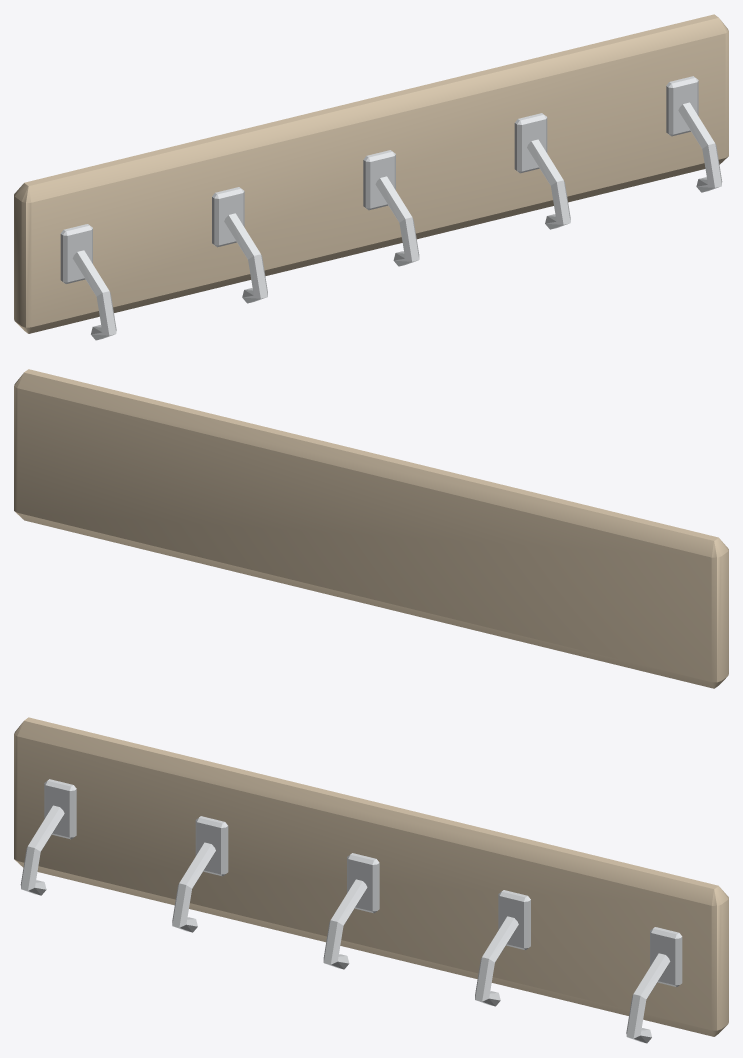
The model's file is clinic-and-veterinary-practice-coat-hook-rail-1ded1547__16831.glb.
3 renders of one model, top to bottom at view 1: azimuth 30°, elevation 25°; view 2: azimuth 150°, elevation 25°; view 3: azimuth 330°, elevation 25°, orthographic.
Parts seen in each view (by area): view 1: coat-hook-rail; view 2: coat-hook-rail; view 3: coat-hook-rail.
Boxes of the visible parts, <box> form: coat-hook-rail: <box>14,14,728,340</box>; coat-hook-rail: <box>14,369,728,688</box>; coat-hook-rail: <box>14,717,728,1043</box>.
Size of the model in its own units: 0.7 by 0.14 by 0.0879.
